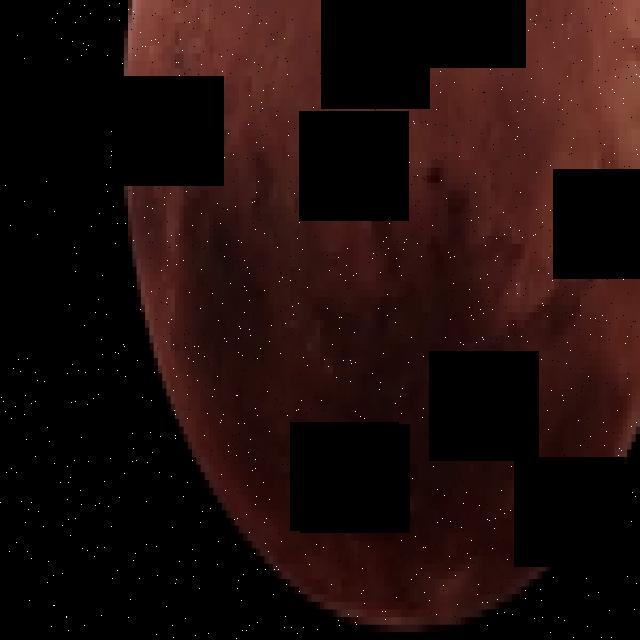Mars: (124, 0, 640, 617)
